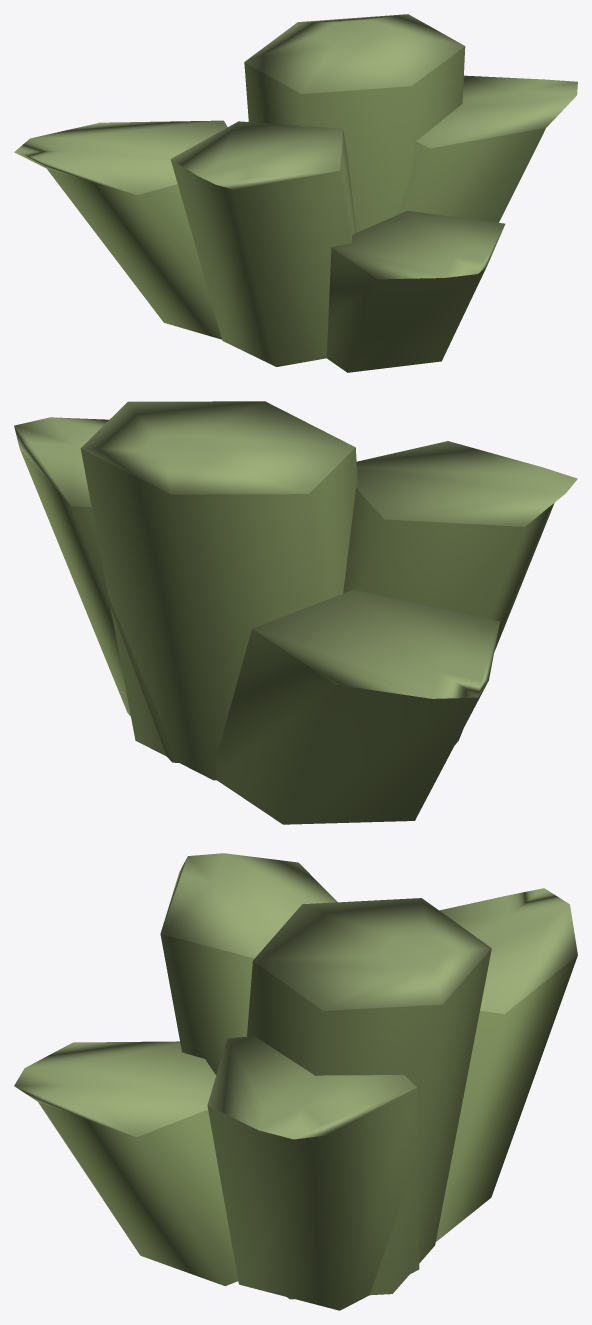
The model's file is gf_clump_04.glb.
The picture shows the model from 3 angles, top to bottom: view 1: azimuth 30°, elevation 25°; view 2: azimuth 150°, elevation 25°; view 3: azimuth 270°, elevation 25°; orthographic projection. The views are drawn at different scales.
Parts seen in each view (by area): view 1: gf_clump_04; view 2: gf_clump_04; view 3: gf_clump_04.
Part boxes in pixels (x1,y1,x2,y2): gf_clump_04: [14, 14, 577, 372]; gf_clump_04: [14, 401, 577, 824]; gf_clump_04: [14, 853, 577, 1310].
Bounding box in the file's own units: 0.2572 × 0.13 × 0.2126.
